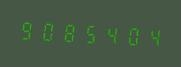eight: (59, 18, 79, 46)
five: (80, 19, 100, 47)
four: (101, 20, 121, 48), (143, 22, 163, 50)
nine: (17, 16, 37, 44)
zero: (38, 17, 58, 45), (122, 21, 142, 49)
